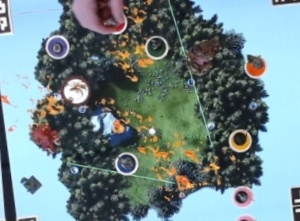blue: (109, 149, 140, 178)
green: (142, 32, 171, 63)
orange: (241, 52, 269, 79)
pink: (227, 181, 255, 210)
red: (102, 9, 130, 37)
violet: (42, 31, 71, 61)
yellow: (224, 124, 253, 154)
